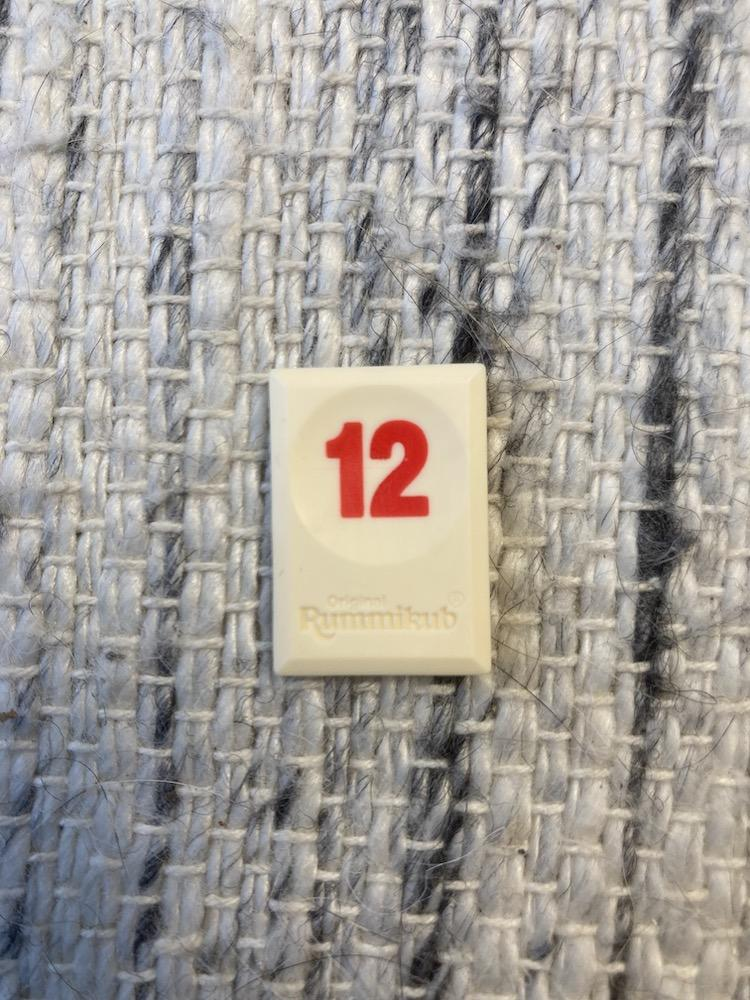red_12: (270, 363, 490, 676)
